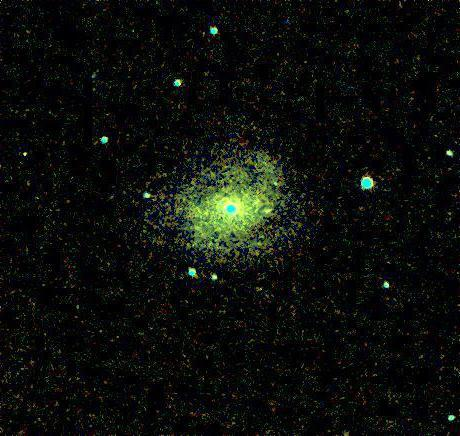star: (10, 139, 40, 169)
